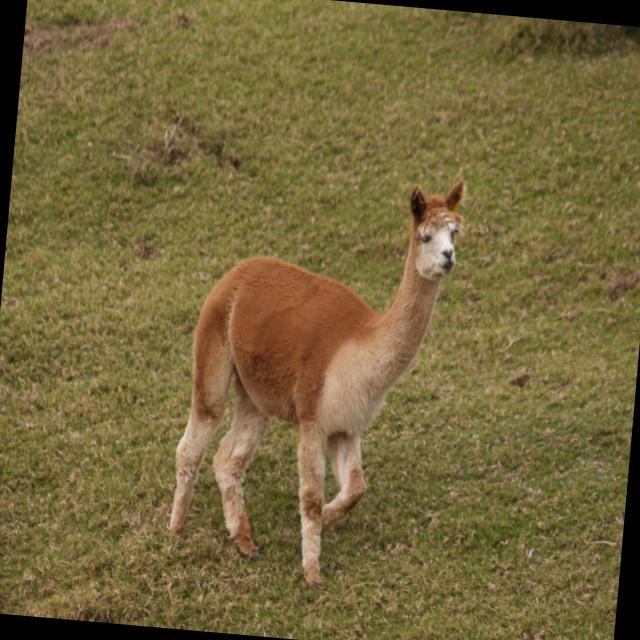alpaca: (163, 156, 465, 594)
